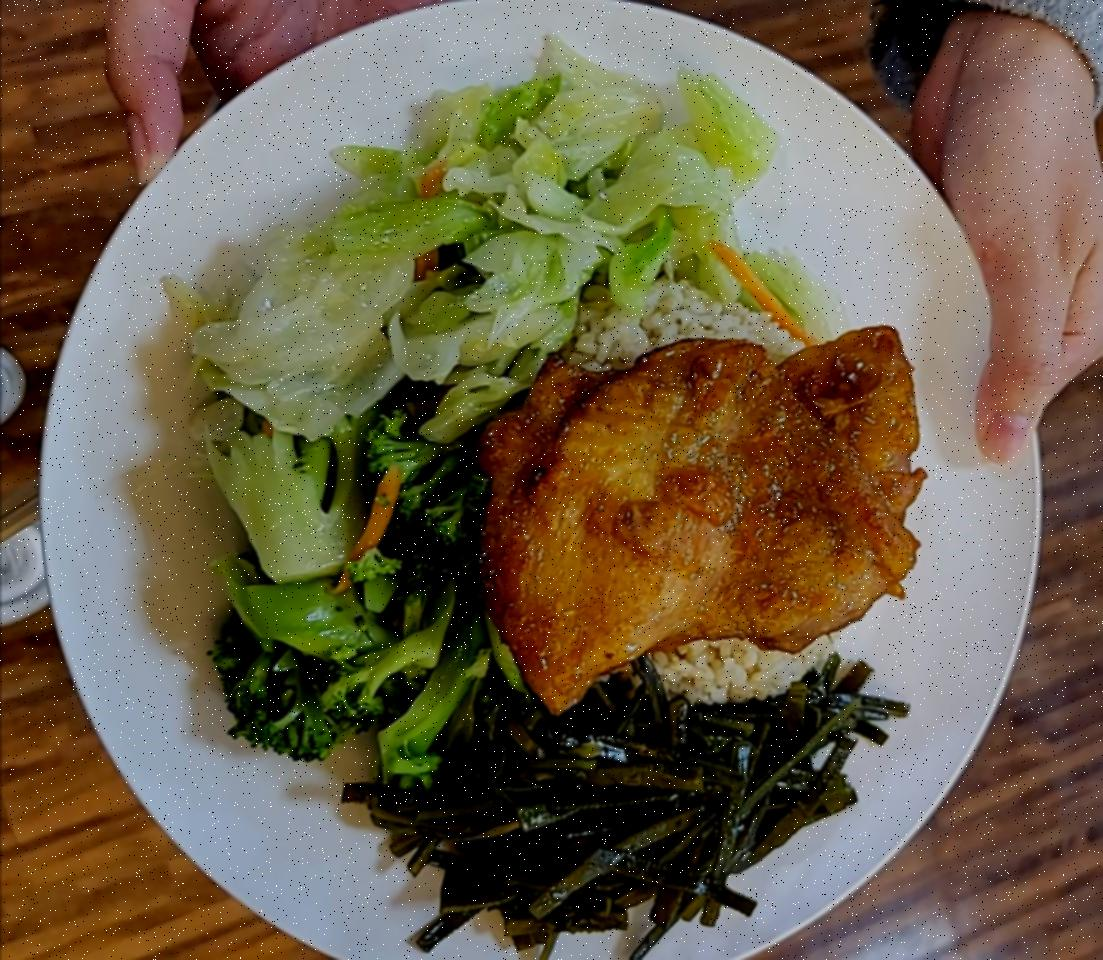grilled chicken leg steak: (476, 320, 924, 695)
plate: (25, 2, 1050, 960)
side dish: (192, 48, 786, 422), (333, 658, 904, 948), (198, 390, 522, 777)
white rice: (500, 290, 844, 724)
